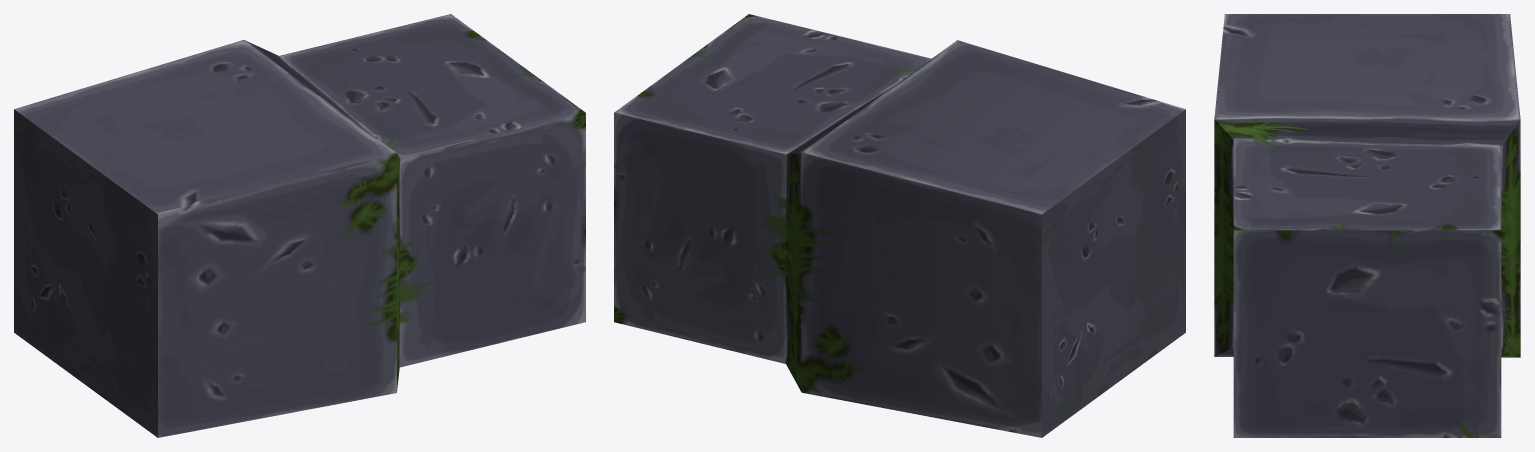
File: MOD_WallCover_01_E_straight_edge_L.fbx
3 renders of one model, left to right at view 1: azimuth 30°, elevation 25°; view 2: azimuth 150°, elevation 25°; view 3: azimuth 270°, elevation 25°, orthographic.
Parts seen in each view (by area): view 1: MOD_WallCover_01_E_straight_edge_L; view 2: MOD_WallCover_01_E_straight_edge_L; view 3: MOD_WallCover_01_E_straight_edge_L.
Part boxes in pixels (<box>): MOD_WallCover_01_E_straight_edge_L: <box>14,14,585,437</box>; MOD_WallCover_01_E_straight_edge_L: <box>614,14,1185,437</box>; MOD_WallCover_01_E_straight_edge_L: <box>1214,14,1520,437</box>.
Bounding box in the file's own units: 130 × 68.71 × 80.16.
